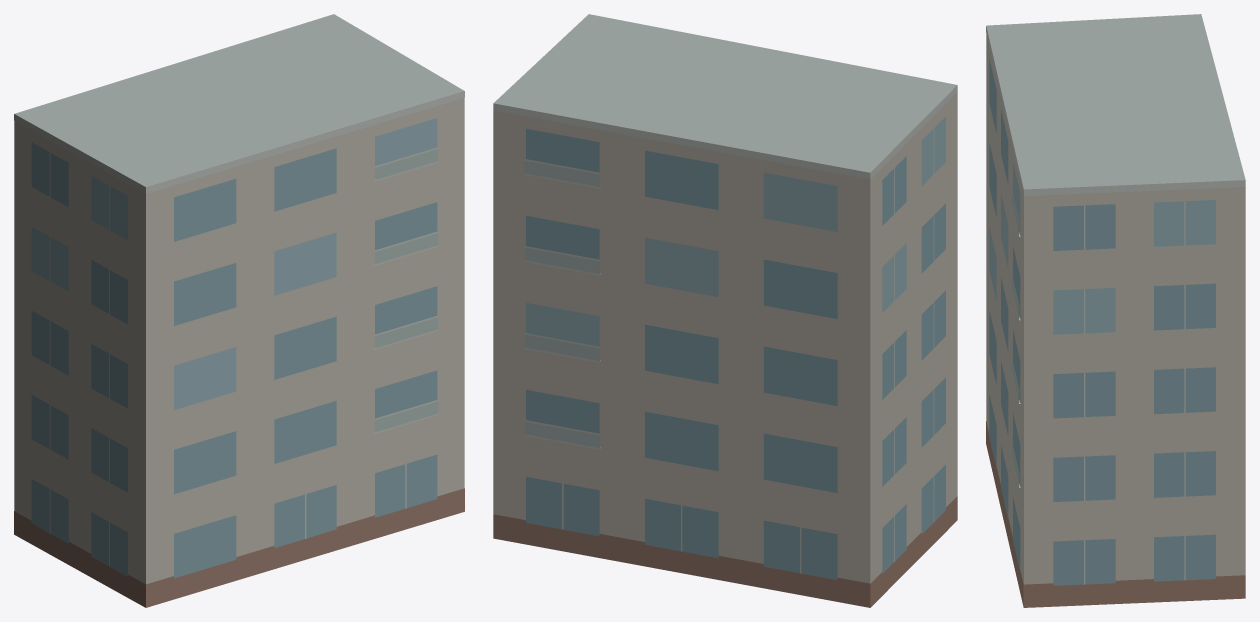
File: survey-upis-32818709.glb
3 renders of one model, left to right at view 1: azimuth 30°, elevation 25°; view 2: azimuth 150°, elevation 25°; view 3: azimuth 270°, elevation 25°, orthographic. The views are drawn at different scales.
Parts seen in each view (by area): view 1: survey-upis-32818709.tmp; view 2: survey-upis-32818709.tmp; view 3: survey-upis-32818709.tmp.
Part boxes in pixels (x1,y1,x2,y2): survey-upis-32818709.tmp: [14, 14, 464, 607]; survey-upis-32818709.tmp: [493, 14, 957, 607]; survey-upis-32818709.tmp: [986, 14, 1245, 607].
Bounding box in the file's own units: 13.72 × 15.25 × 8.58.
